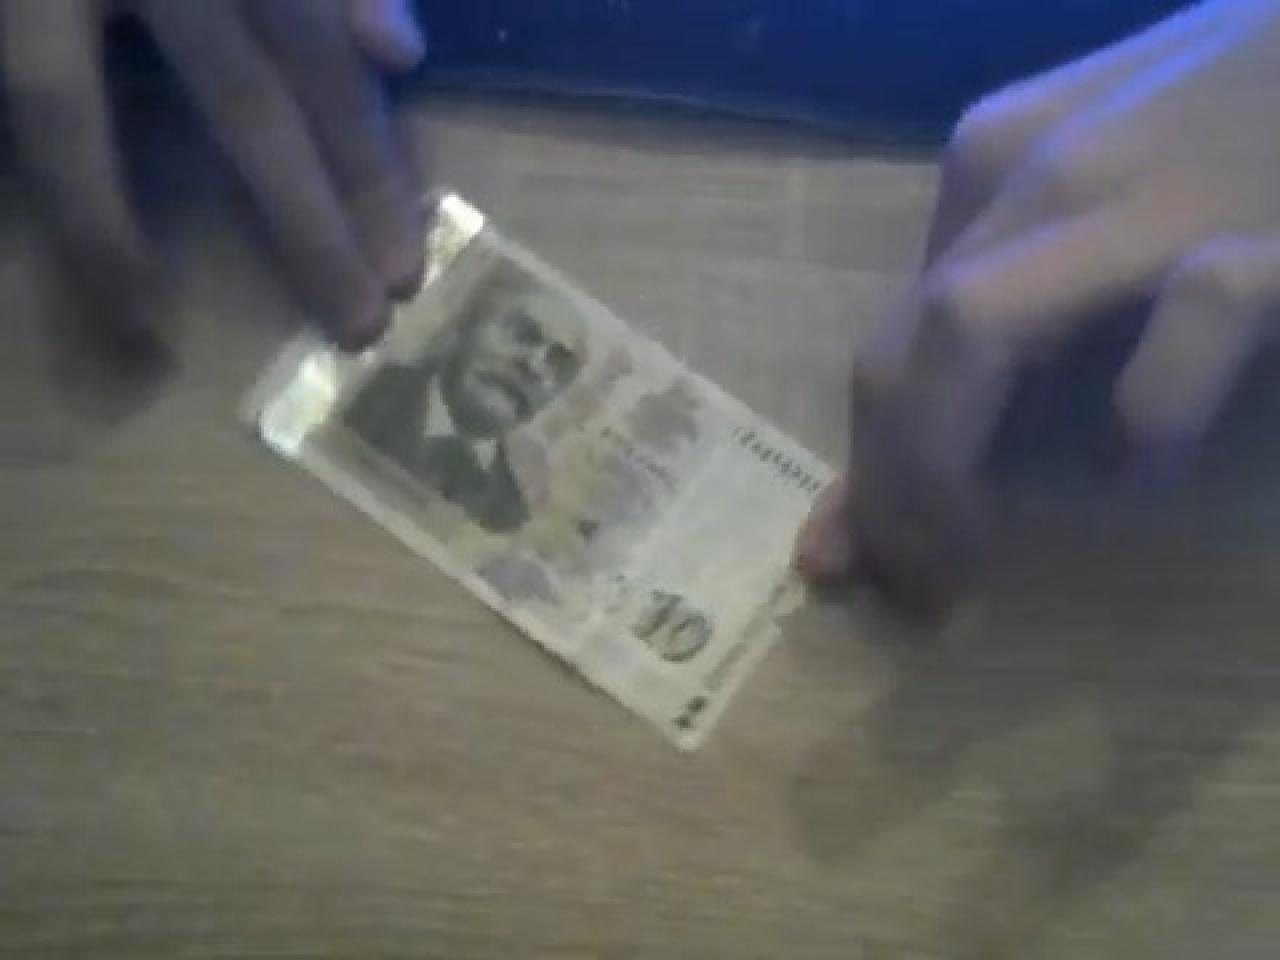10leva: (237, 192, 837, 755)
